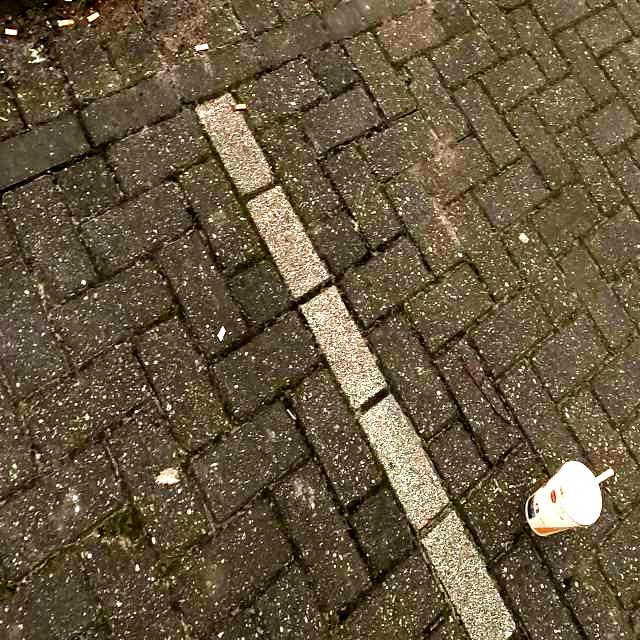Coffee Cup: (518, 456, 618, 544)
